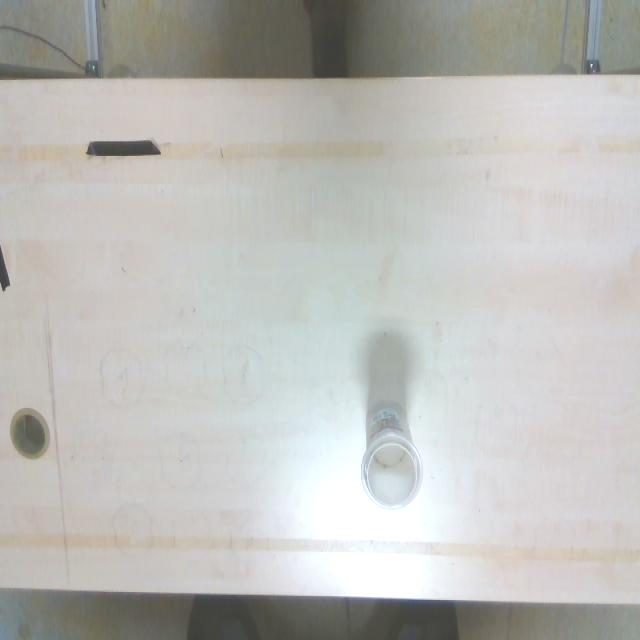cups: (361, 398, 421, 512)
